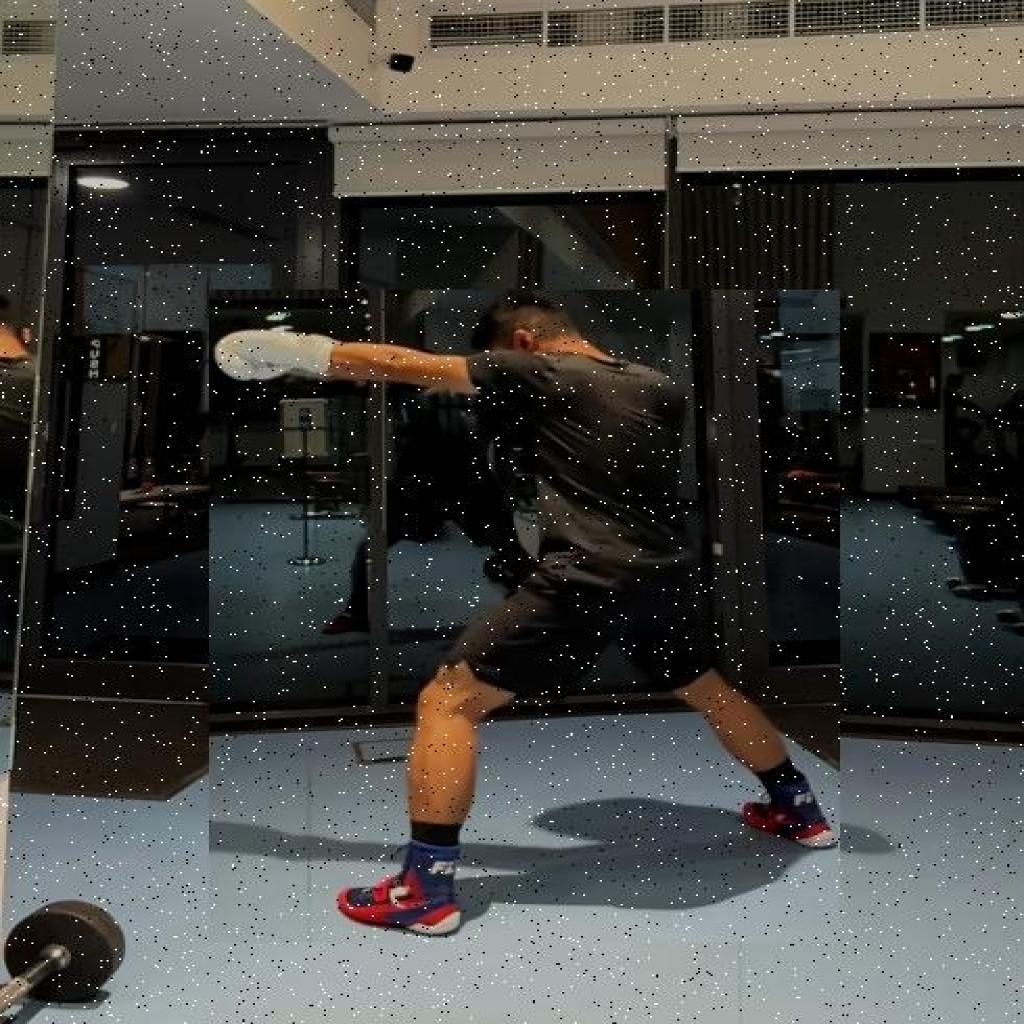jab: (209, 290, 841, 942)
